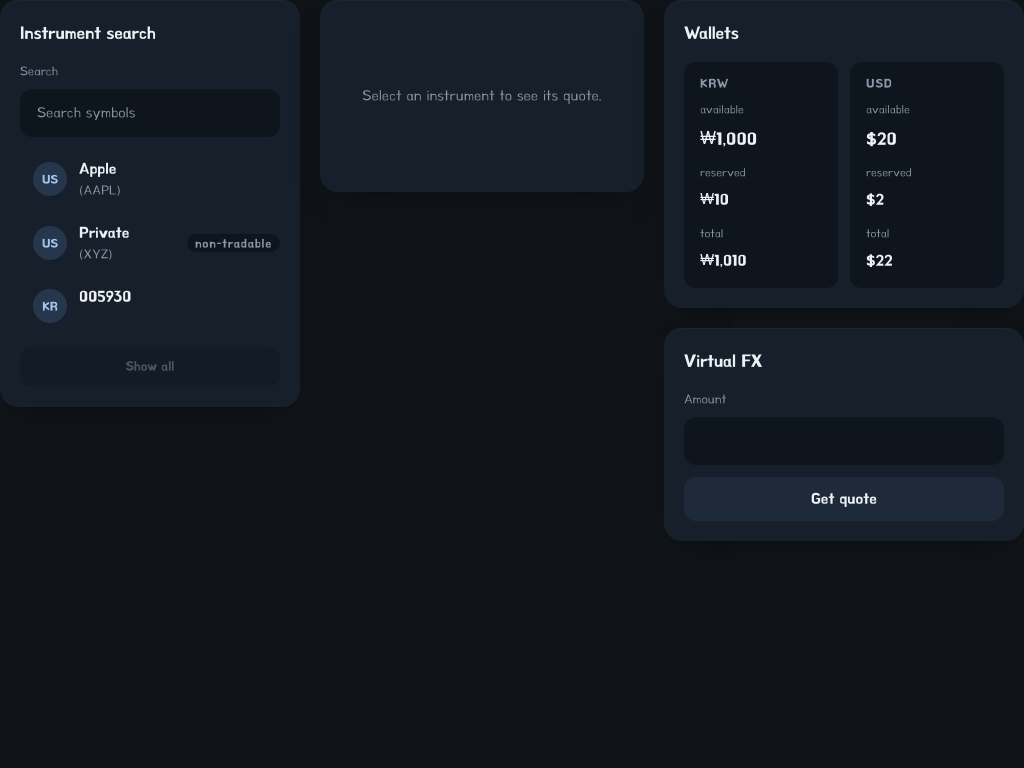
TradePage › does not steal focus for an ordinary click selection
What coordinates should you click on to do the following:
click the button "US Apple (AAPL)"
I would click on:
 (50, 179)
Its box is [20,149,280,209].
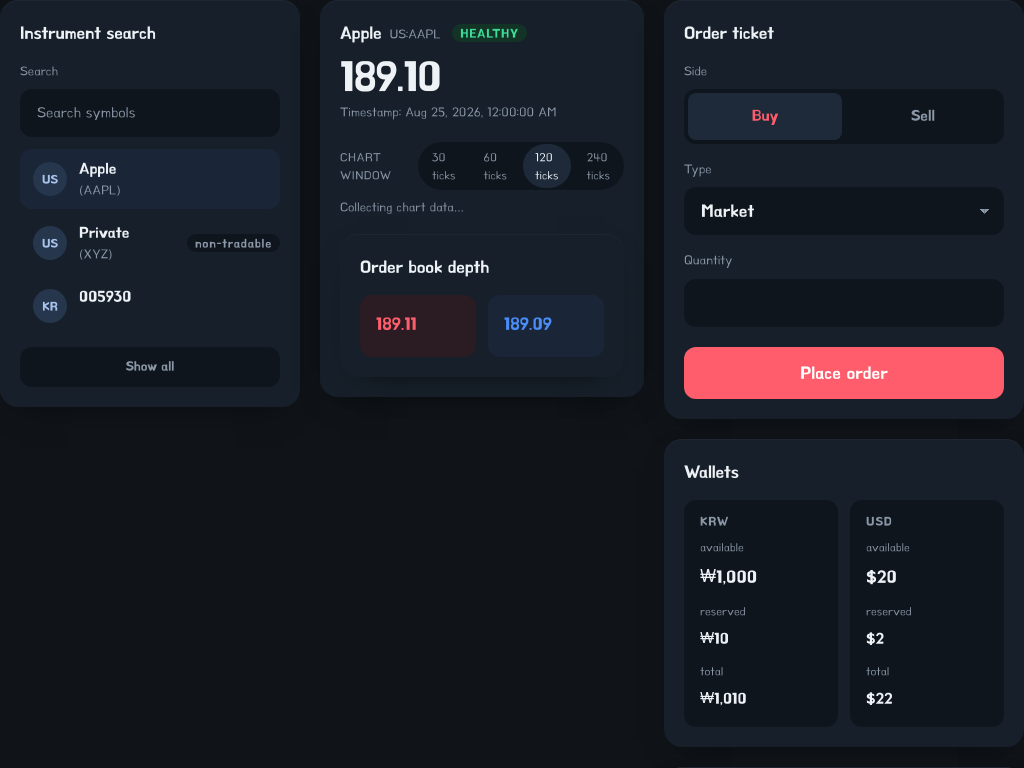
Now the text "189.10" is shown, box [340,56,441,96]
